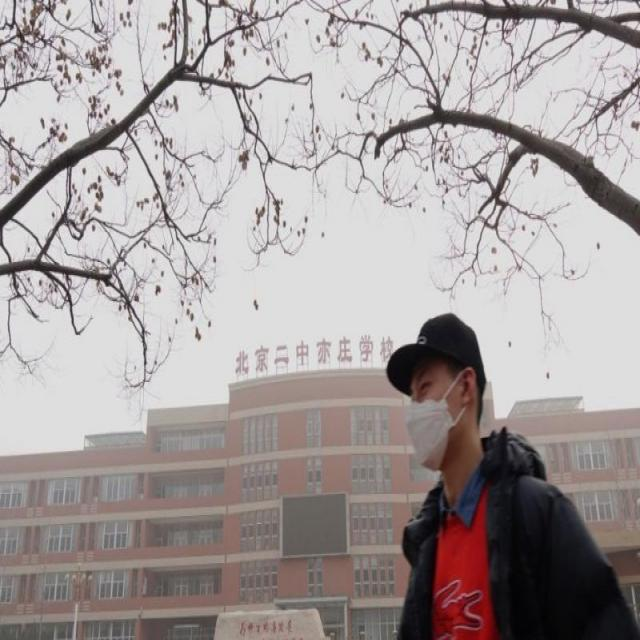mask: (407, 359, 454, 465)
